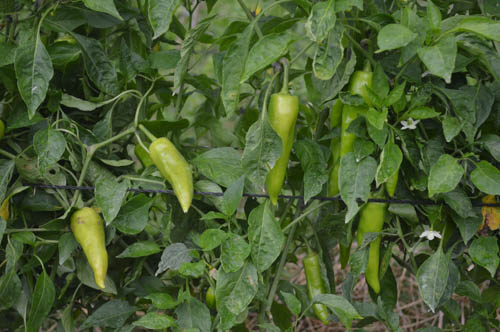ChiliPepper: (264, 94, 299, 208), (341, 70, 375, 181), (153, 135, 195, 213), (74, 210, 109, 284), (360, 198, 383, 297), (301, 258, 331, 320)
